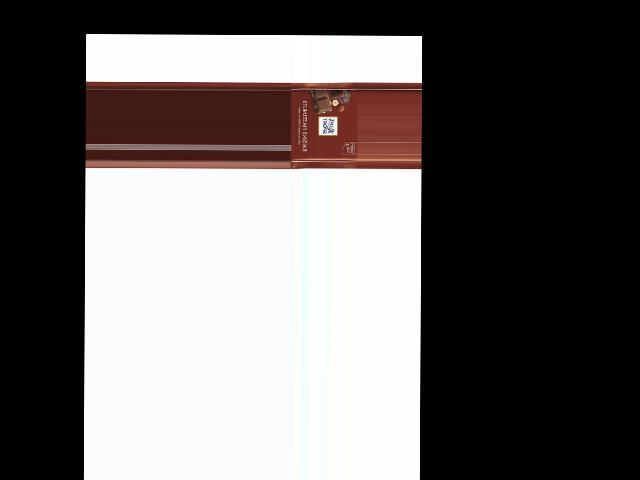chocolate: (289, 80, 357, 169)
